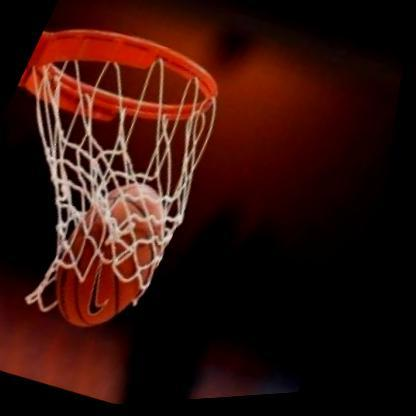basketball: (30, 163, 207, 352)
